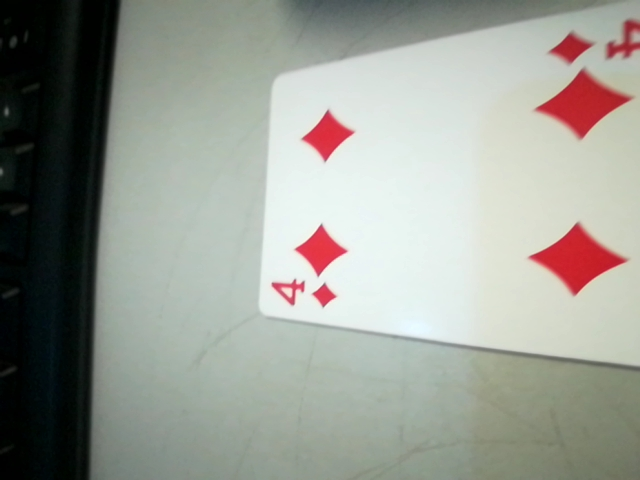fk 4: (263, 259, 356, 316)
